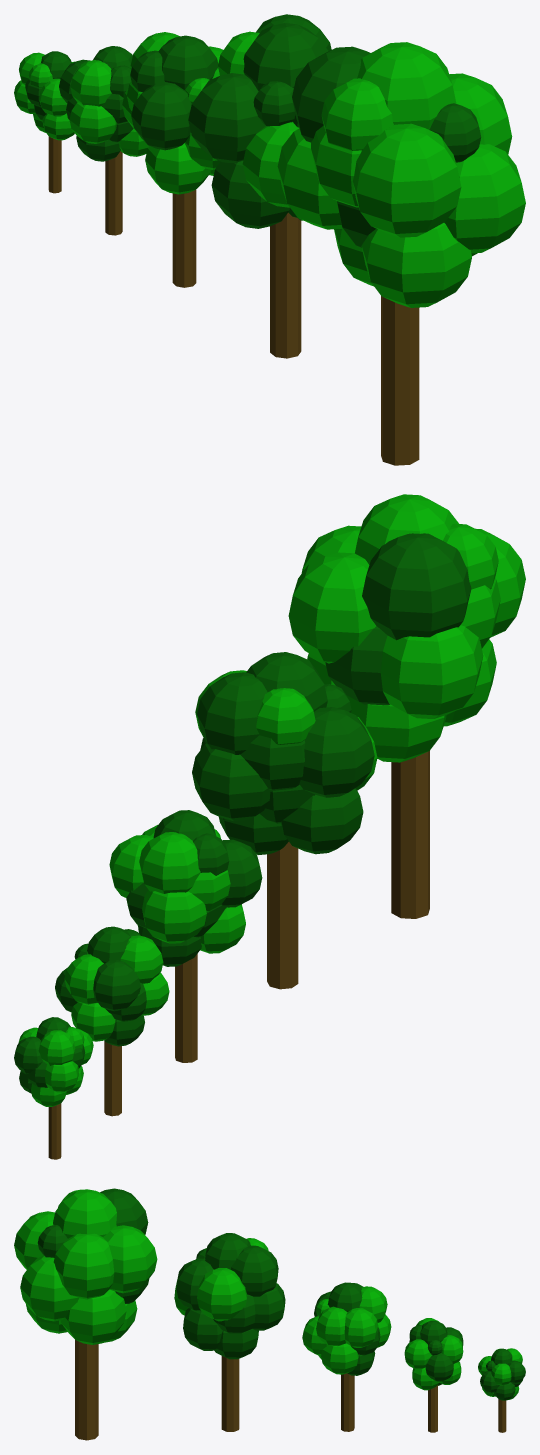
The model's file is Trees.fbx.
The picture shows the model from 3 angles, top to bottom: view 1: azimuth 30°, elevation 25°; view 2: azimuth 150°, elevation 25°; view 3: azimuth 270°, elevation 25°; orthographic projection. The views are drawn at different scales.
Visible parts, largest first — view 1: Tree_large, Tree_big, Tree_medium, Tree_Small, Tree_Tiny; view 2: Tree_large, Tree_big, Tree_medium, Tree_Small, Tree_Tiny; view 3: Tree_large, Tree_big, Tree_medium, Tree_Small, Tree_Tiny.
Part boxes in pixels (x1,y1,x2,y2): Tree_large: (277, 42, 525, 465); Tree_big: (188, 14, 331, 358); Tree_medium: (122, 32, 223, 287); Tree_Small: (59, 46, 148, 235); Tree_Tiny: (14, 51, 74, 193); Tree_large: (288, 494, 525, 918); Tree_big: (192, 652, 377, 989); Tree_medium: (109, 810, 262, 1062); Tree_Small: (55, 926, 169, 1116); Tree_Tiny: (14, 1017, 93, 1159); Tree_large: (14, 1188, 157, 1440); Tree_big: (174, 1233, 285, 1431); Tree_medium: (302, 1282, 391, 1431); Tree_Small: (404, 1318, 463, 1432); Tree_Tiny: (478, 1348, 525, 1432).
Size of the model in its own units: 14.48 by 28.64 by 54.59.
